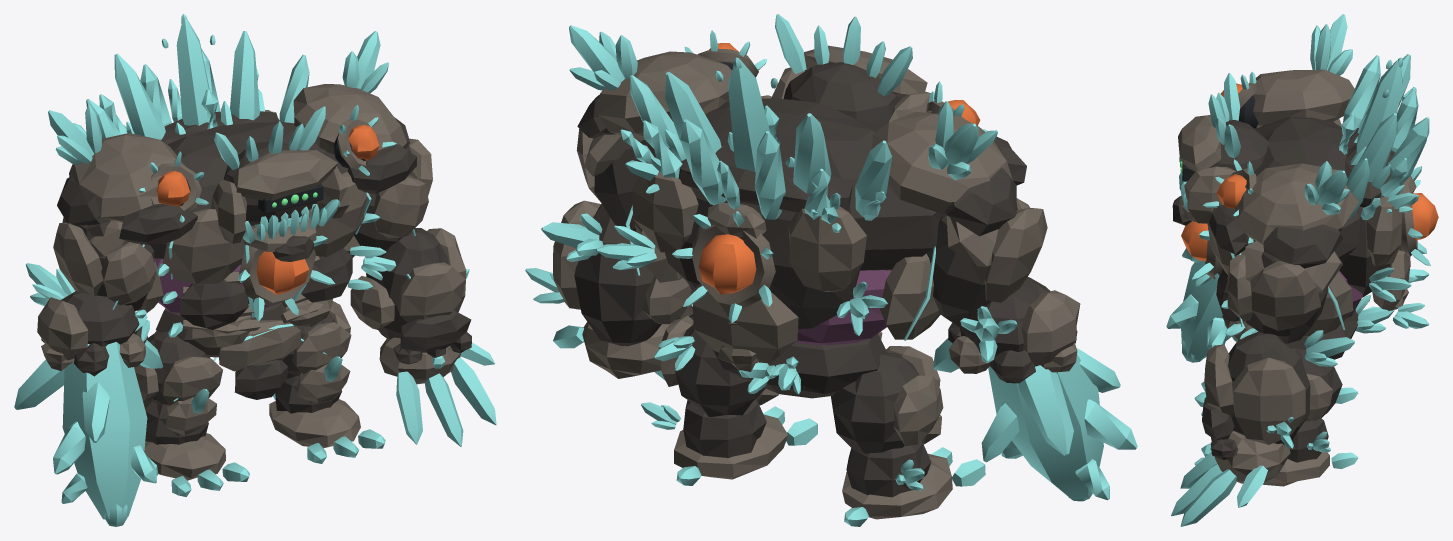
The model's file is Boss_CrystalColossus.fbx.
3 views of the same model, side by side, from view 1: azimuth 30°, elevation 25°; view 2: azimuth 150°, elevation 25°; view 3: azimuth 270°, elevation 25° (orthographic). The views are drawn at different scales.
Parts seen in each view (by area): view 1: Chest, RightClub, Spines, Head, LeftForearm, LeftHand, LeftShin, RightShin, RightArm, Body, RightLeg, LeftArm (+5 smaller); view 2: Chest, RightClub, Spines, LeftForearm, Head, RightLeg, LeftShin, RightShin, RightArm, Body, LeftLeg, LeftHand (+2 smaller); view 3: Chest, LeftForearm, Spines, Head, LeftArm, LeftHand, RightClub, LeftShin, LeftLeg, Body, CoreBack, CoreChest (+3 smaller).
Boxes of the visible parts, x1=… form: Chest: x1=48, y1=31, x2=419, y2=347; RightClub: x1=14, y1=263, x2=163, y2=519; Spines: x1=86, y1=18, x2=309, y2=144; Head: x1=211, y1=106, x2=349, y2=243; LeftForearm: x1=350, y1=228, x2=471, y2=352; LeftHand: x1=379, y1=332, x2=496, y2=446; LeftShin: x1=269, y1=356, x2=385, y2=463; RightShin: x1=143, y1=388, x2=249, y2=496; RightArm: x1=53, y1=220, x2=156, y2=311; Body: x1=155, y1=302, x2=300, y2=399; RightLeg: x1=134, y1=331, x2=222, y2=405; LeftArm: x1=354, y1=138, x2=432, y2=250; Chest: x1=569, y1=25, x2=1026, y2=394; RightClub: x1=933, y1=277, x2=1137, y2=500; Spines: x1=620, y1=59, x2=891, y2=220; LeftForearm: x1=525, y1=200, x2=692, y2=346; Head: x1=771, y1=14, x2=930, y2=127; RightLeg: x1=831, y1=346, x2=943, y2=453; LeftShin: x1=641, y1=388, x2=817, y2=485; RightShin: x1=842, y1=414, x2=985, y2=526; RightArm: x1=926, y1=198, x2=1047, y2=327; Body: x1=712, y1=331, x2=885, y2=398; LeftLeg: x1=659, y1=315, x2=765, y2=416; LeftHand: x1=553, y1=305, x2=692, y2=380; Chest: x1=1191, y1=14, x2=1430, y2=340; LeftForearm: x1=1202, y1=330, x2=1354, y2=448; Spines: x1=1338, y1=54, x2=1429, y2=219; Head: x1=1178, y1=73, x2=1269, y2=223; LeftArm: x1=1227, y1=251, x2=1328, y2=343; LeftHand: x1=1171, y1=430, x2=1290, y2=526; RightClub: x1=1166, y1=248, x2=1231, y2=360; LeftShin: x1=1194, y1=418, x2=1358, y2=486; LeftLeg: x1=1290, y1=348, x2=1342, y2=422; Body: x1=1238, y1=294, x2=1394, y2=359; CoreBack: x1=1412, y1=193, x2=1438, y2=239; CoreChest: x1=1181, y1=221, x2=1207, y2=261.
Size of the model in its own units: 17.81 by 14.77 by 9.36.
